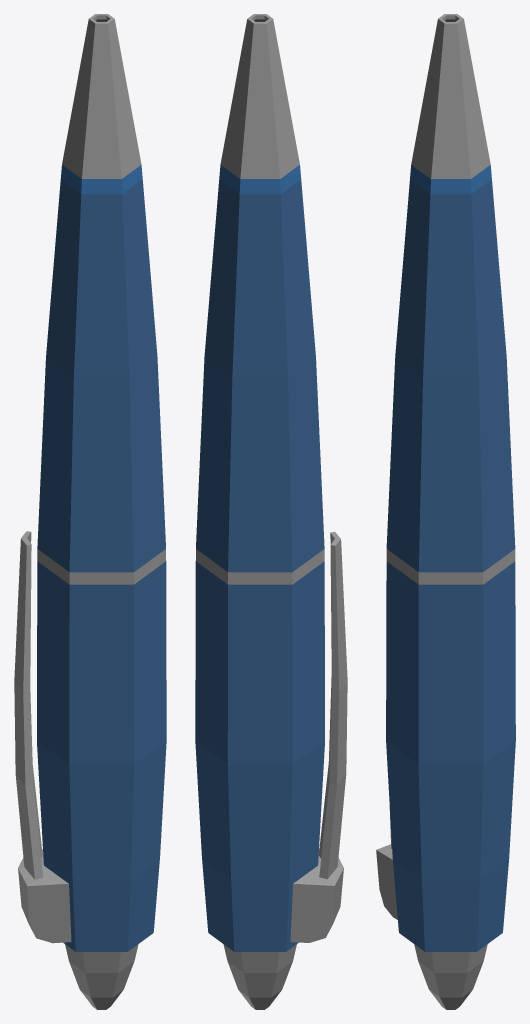
The model's file is Int_OfficePen01.fbx.
The picture shows the model from 3 angles, left to right: view 1: azimuth 30°, elevation 25°; view 2: azimuth 210°, elevation 25°; view 3: azimuth 330°, elevation 25°; orthographic projection.
Visible parts, largest first — view 1: Int_OfficePen01; view 2: Int_OfficePen01; view 3: Int_OfficePen01.
Part boxes in pixels (x1,y1,x2,y2): Int_OfficePen01: (14, 14, 166, 1009); Int_OfficePen01: (195, 14, 347, 1009); Int_OfficePen01: (376, 14, 515, 1009).
Size of what is drawn, in the model's own units: 3.79 by 3.7 by 29.02.
